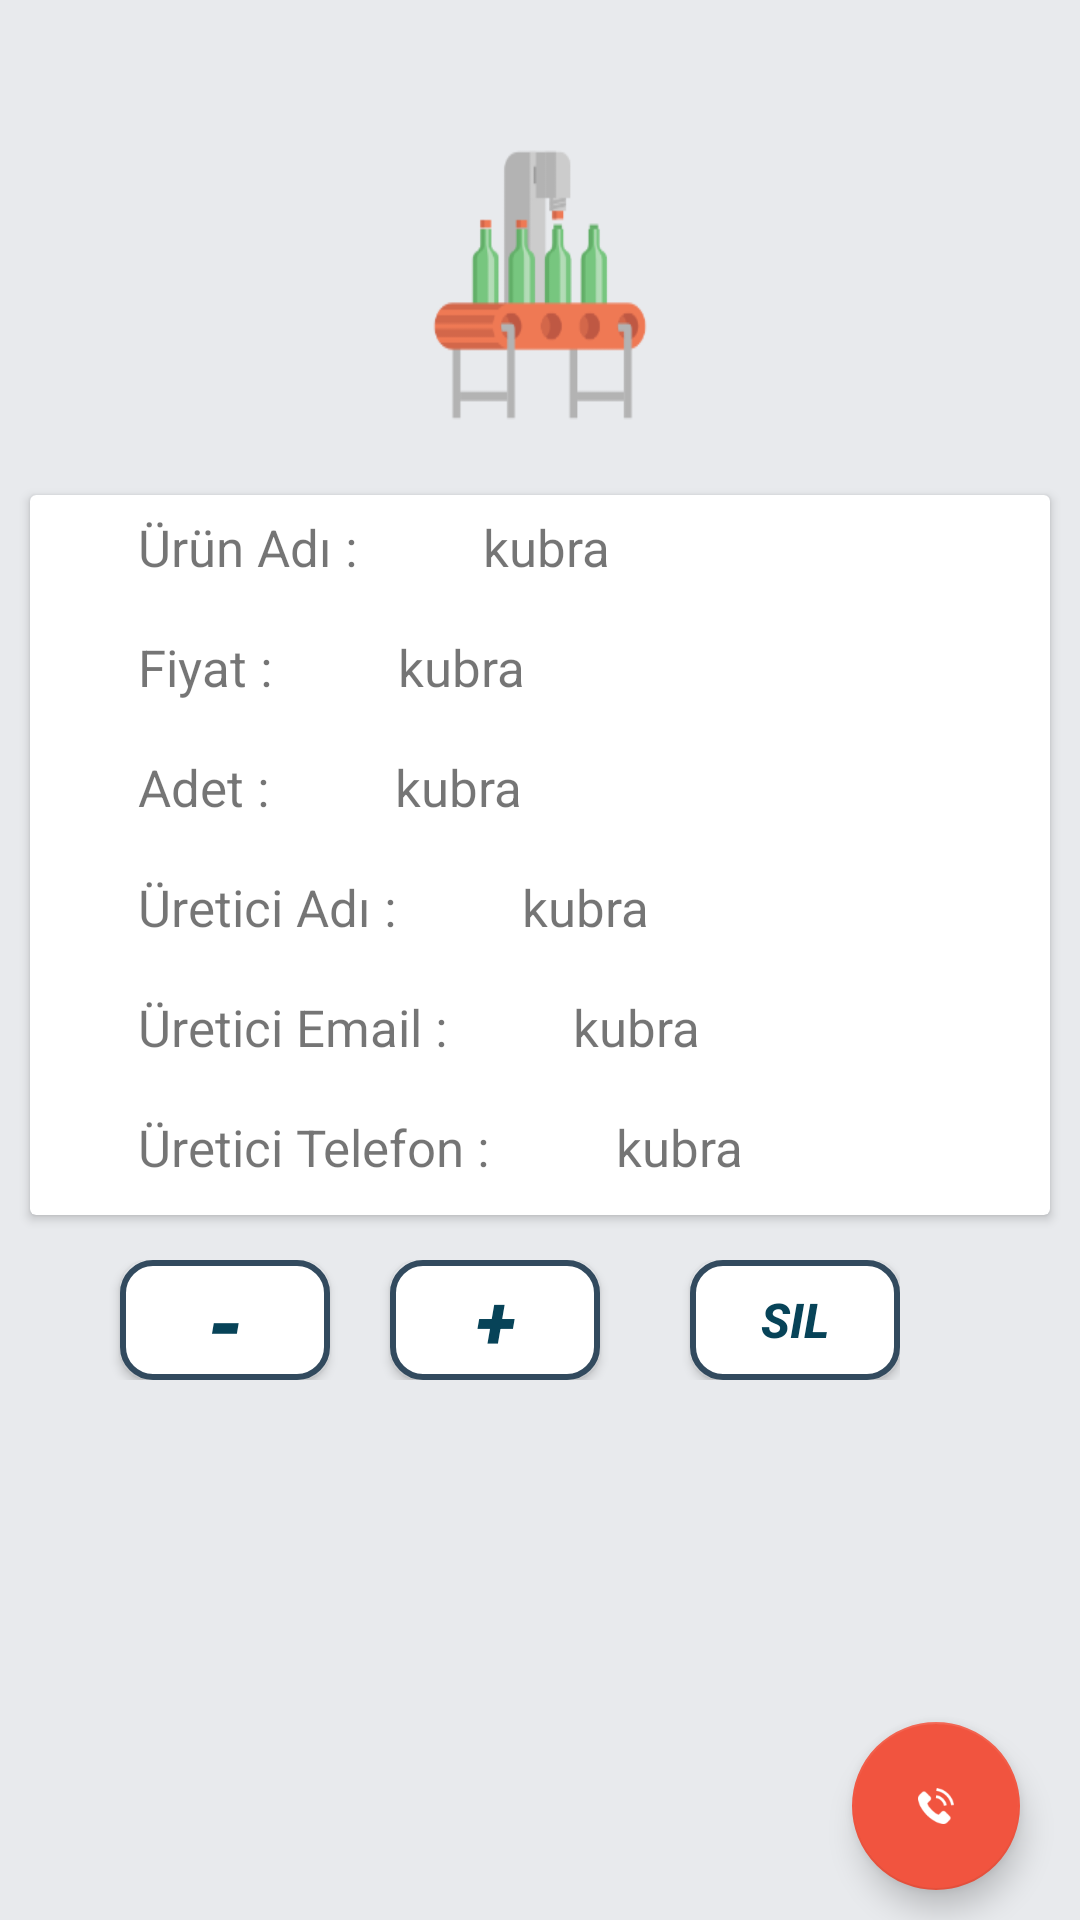

Point at icon controls on the screen. Image size 1080px×1920px, points as (x=x, y=y).
conveyor: (x=540, y=285)
telephone: (x=936, y=1806)
